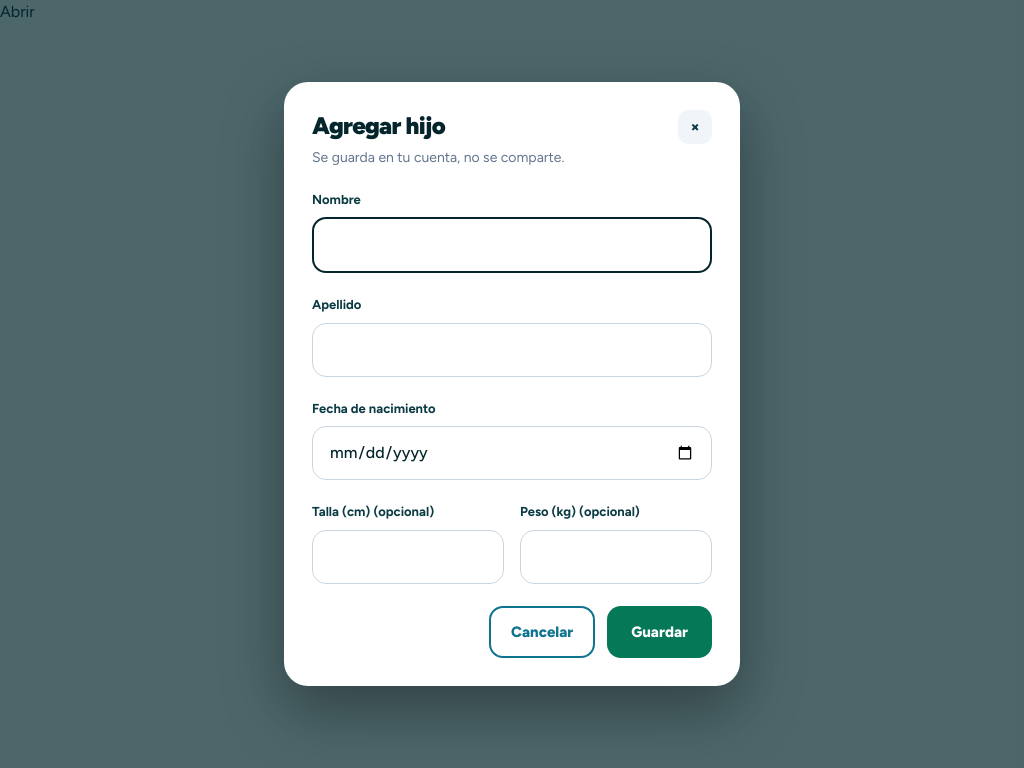
Test case: AddChildModal › shows an error for every missing required field and does not send anything
Click the button "Guardar".
click(660, 632)  # box [607,606,712,658]
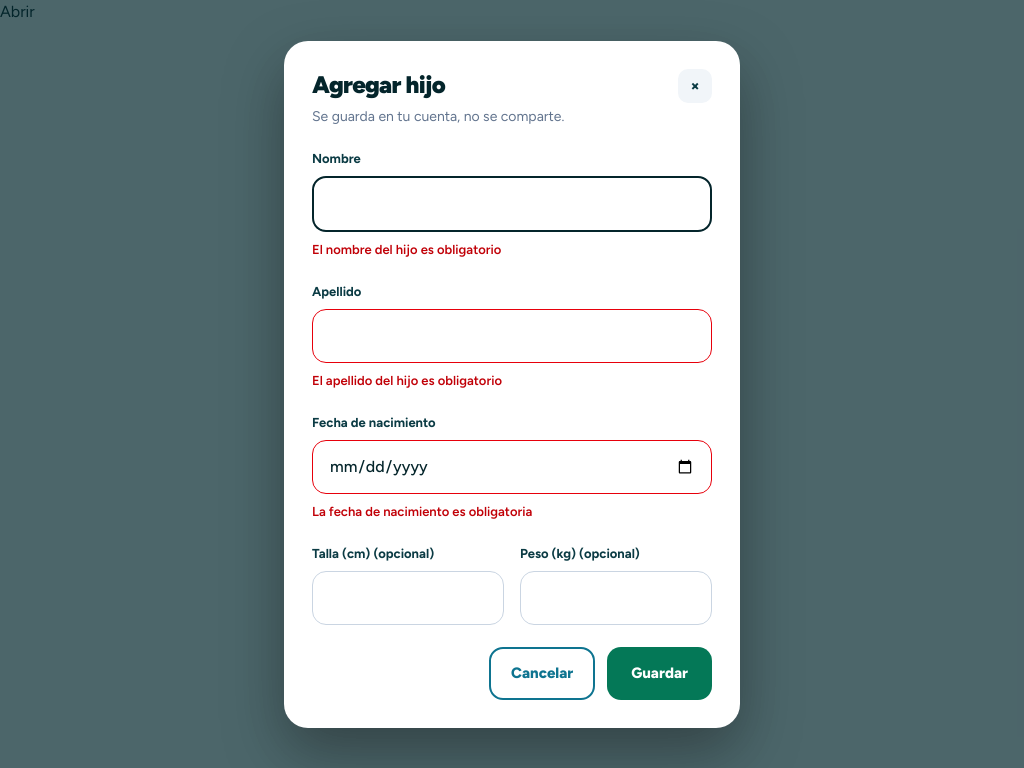
Check: the text "El nombre del hijo es obligatorio" is shown, box [312,242,501,257]
Check: the text "El apellido del hijo es obligatorio" is shown, box [312,373,502,388]
Check: the text "La fecha de nacimiento es obligatoria" is shown, box [312,504,532,519]
